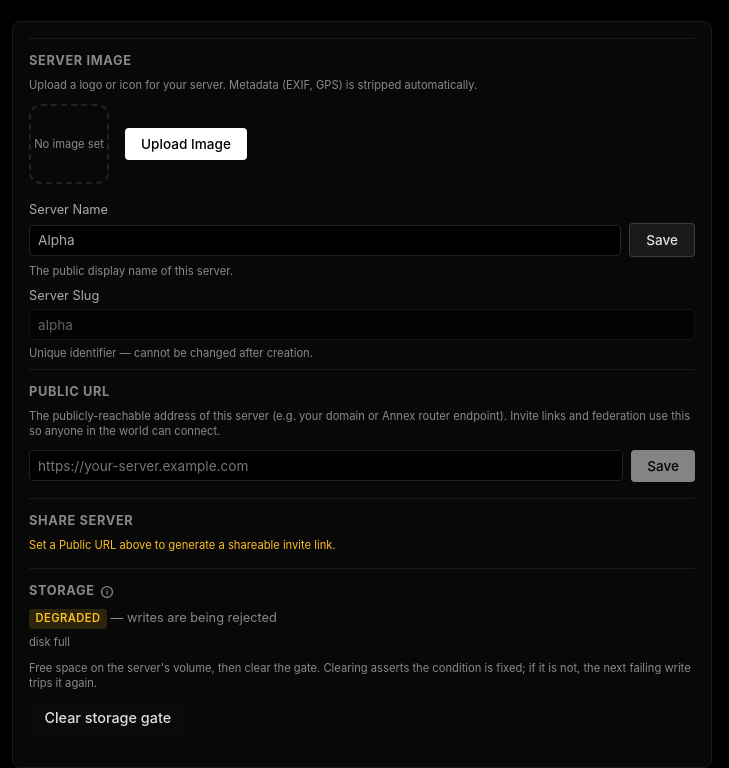
Test: AdminPanel storage gate › clears the gate and re-reads the state rather than assuming it worked
The image size is (729, 768).
(page scrolled)
Expected: the field showing "Alpha" is shown, [29,225,621,256]
Step 1. Click the button "Clear storage gate" → (108, 718), box [29,701,186,735]
(page scrolled)
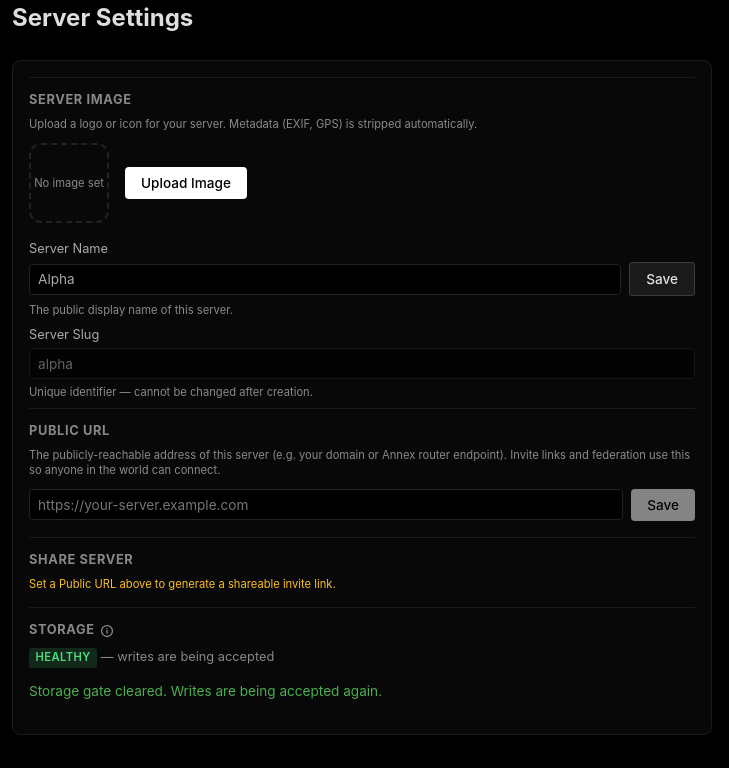
Result: the text "healthy" is shown at [29,648,97,668]
Result: the message shows "Writes are being accepted again" at [29,683,382,699]
